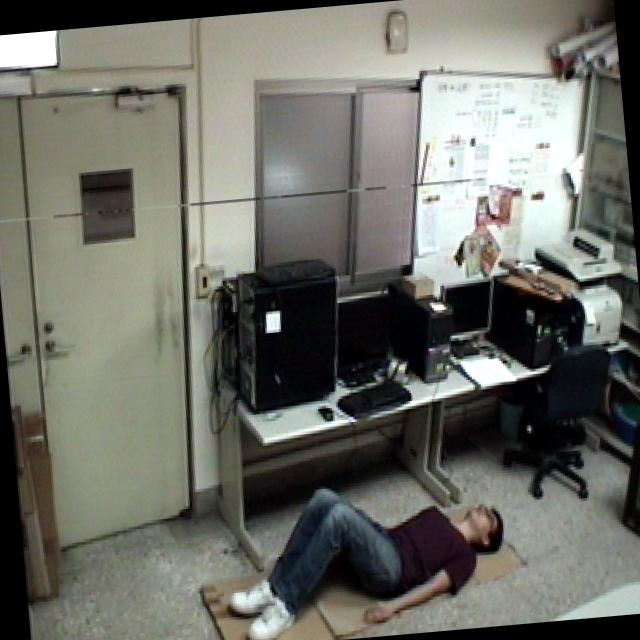lie: (212, 458, 519, 640)
